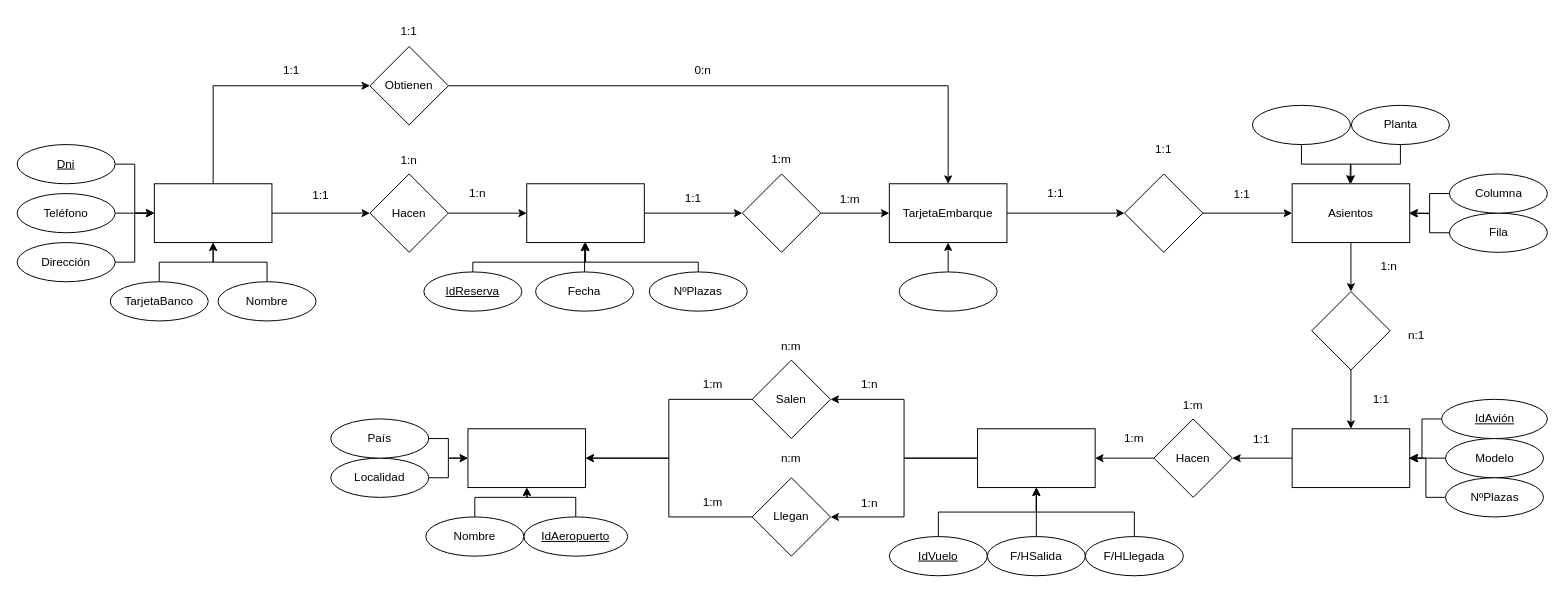
Some shapes in this 1565 by 593 pixel diagram are drawn without their labels. The shapes that lost their labels are listed below. From the top down, each one's box as (x1, y1, x2, y2) in pixels, then its label:
(1251, 104, 1350, 145): IdAsiento
(153, 183, 272, 243): Personas
(526, 183, 644, 243): Reservas
(741, 173, 821, 252): Generan
(1124, 173, 1203, 252): Asignan
(898, 271, 997, 311): IdTarEmbarque
(1311, 291, 1390, 370): Pertenecen
(467, 428, 586, 488): Aeropuertos
(977, 428, 1095, 488): Vuelos
(1291, 428, 1410, 488): Aviones
